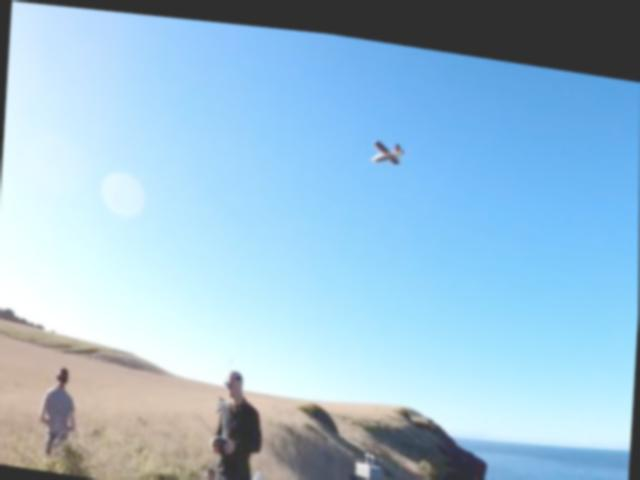uav: (369, 129, 406, 162)
